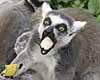cat: (3, 1, 99, 76)
